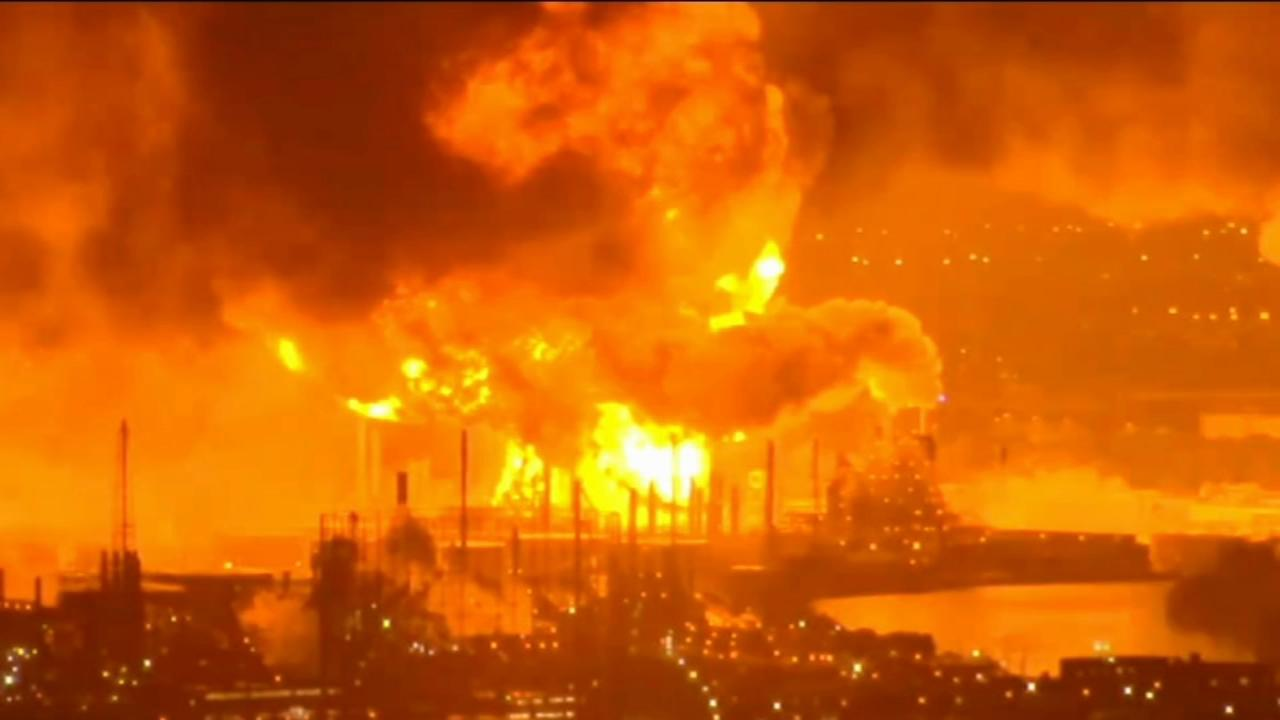fire: (301, 27, 903, 551)
